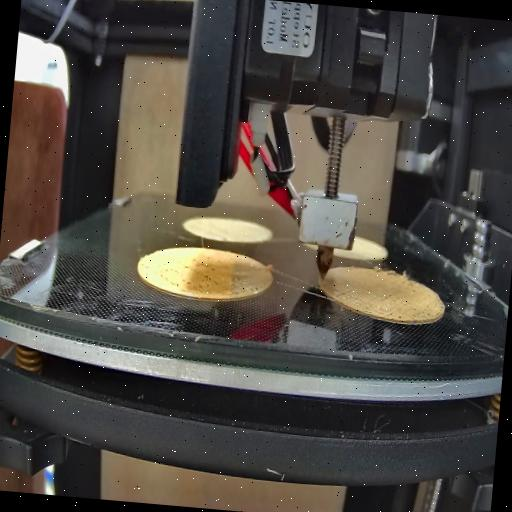under_extrusion: (154, 264, 262, 300), (378, 286, 444, 328), (326, 284, 346, 304), (188, 250, 211, 266)
